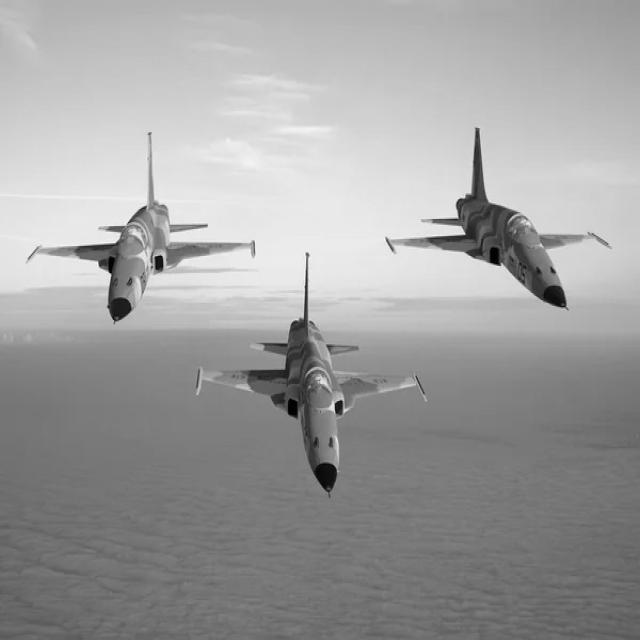Aircraft: (173, 247, 437, 496), (22, 125, 264, 324), (381, 119, 618, 322)
